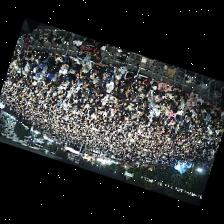person: (123, 60, 140, 82), (58, 56, 70, 77), (36, 55, 49, 71), (138, 77, 151, 91), (64, 67, 74, 84), (158, 81, 171, 94), (92, 62, 105, 75), (113, 65, 125, 77), (170, 86, 181, 99), (70, 57, 81, 70), (129, 79, 139, 93), (44, 70, 55, 82), (148, 78, 159, 90), (90, 84, 100, 97), (54, 51, 63, 65), (106, 77, 114, 92), (80, 69, 90, 81), (82, 59, 91, 72), (151, 105, 159, 119), (91, 72, 102, 82), (71, 75, 80, 87), (120, 80, 129, 92), (177, 98, 184, 113), (146, 88, 154, 101), (164, 89, 172, 102), (147, 97, 155, 110), (187, 91, 197, 101), (93, 77, 103, 87), (38, 51, 48, 61), (113, 74, 122, 85), (106, 63, 113, 77), (195, 94, 202, 108), (186, 98, 194, 110), (168, 109, 175, 122), (155, 90, 164, 100), (202, 101, 211, 111), (163, 99, 173, 108), (117, 92, 125, 103), (18, 49, 26, 59), (209, 102, 217, 112), (23, 61, 29, 73), (161, 104, 168, 114), (101, 94, 108, 104), (103, 68, 108, 82), (39, 65, 46, 75), (24, 50, 31, 59), (137, 86, 143, 96), (95, 41, 103, 48), (173, 97, 179, 105)
